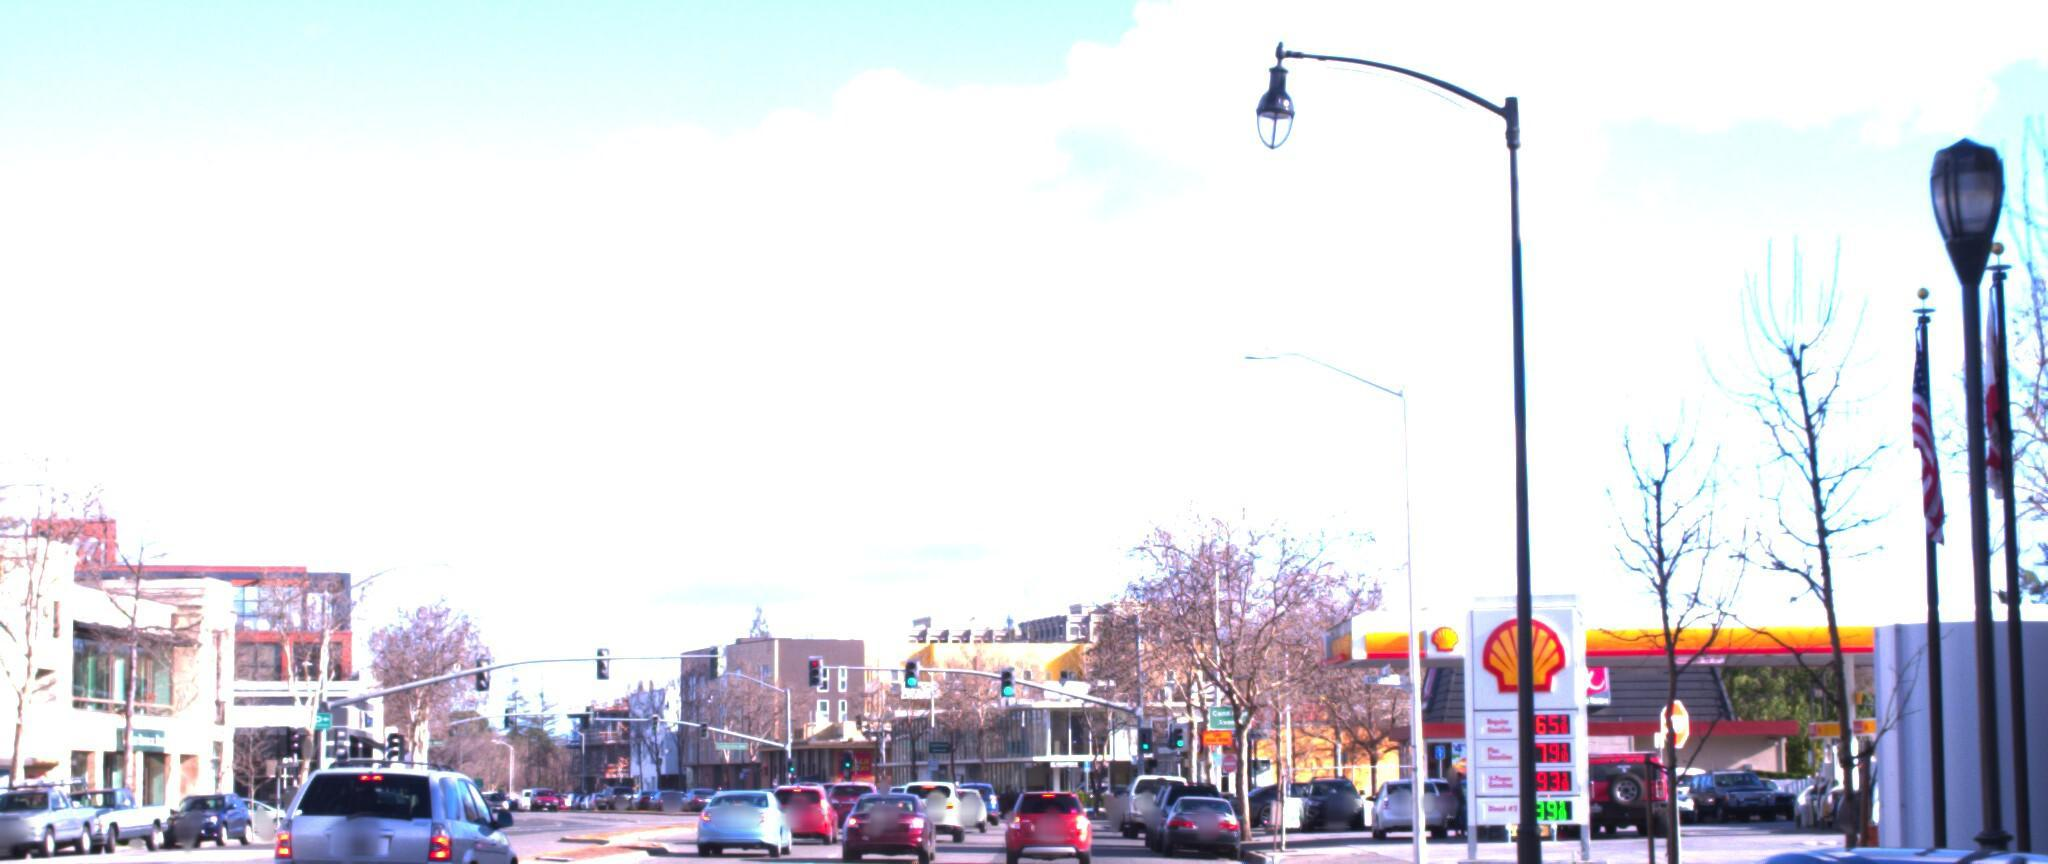car: (263, 737, 530, 864), (1546, 814, 2048, 864), (1548, 727, 1671, 820), (0, 747, 110, 841), (1006, 765, 1095, 850), (850, 764, 942, 844), (697, 765, 793, 842), (1155, 770, 1242, 841), (1361, 756, 1448, 825), (1993, 735, 2048, 834), (772, 766, 850, 830), (1940, 839, 2048, 864)
